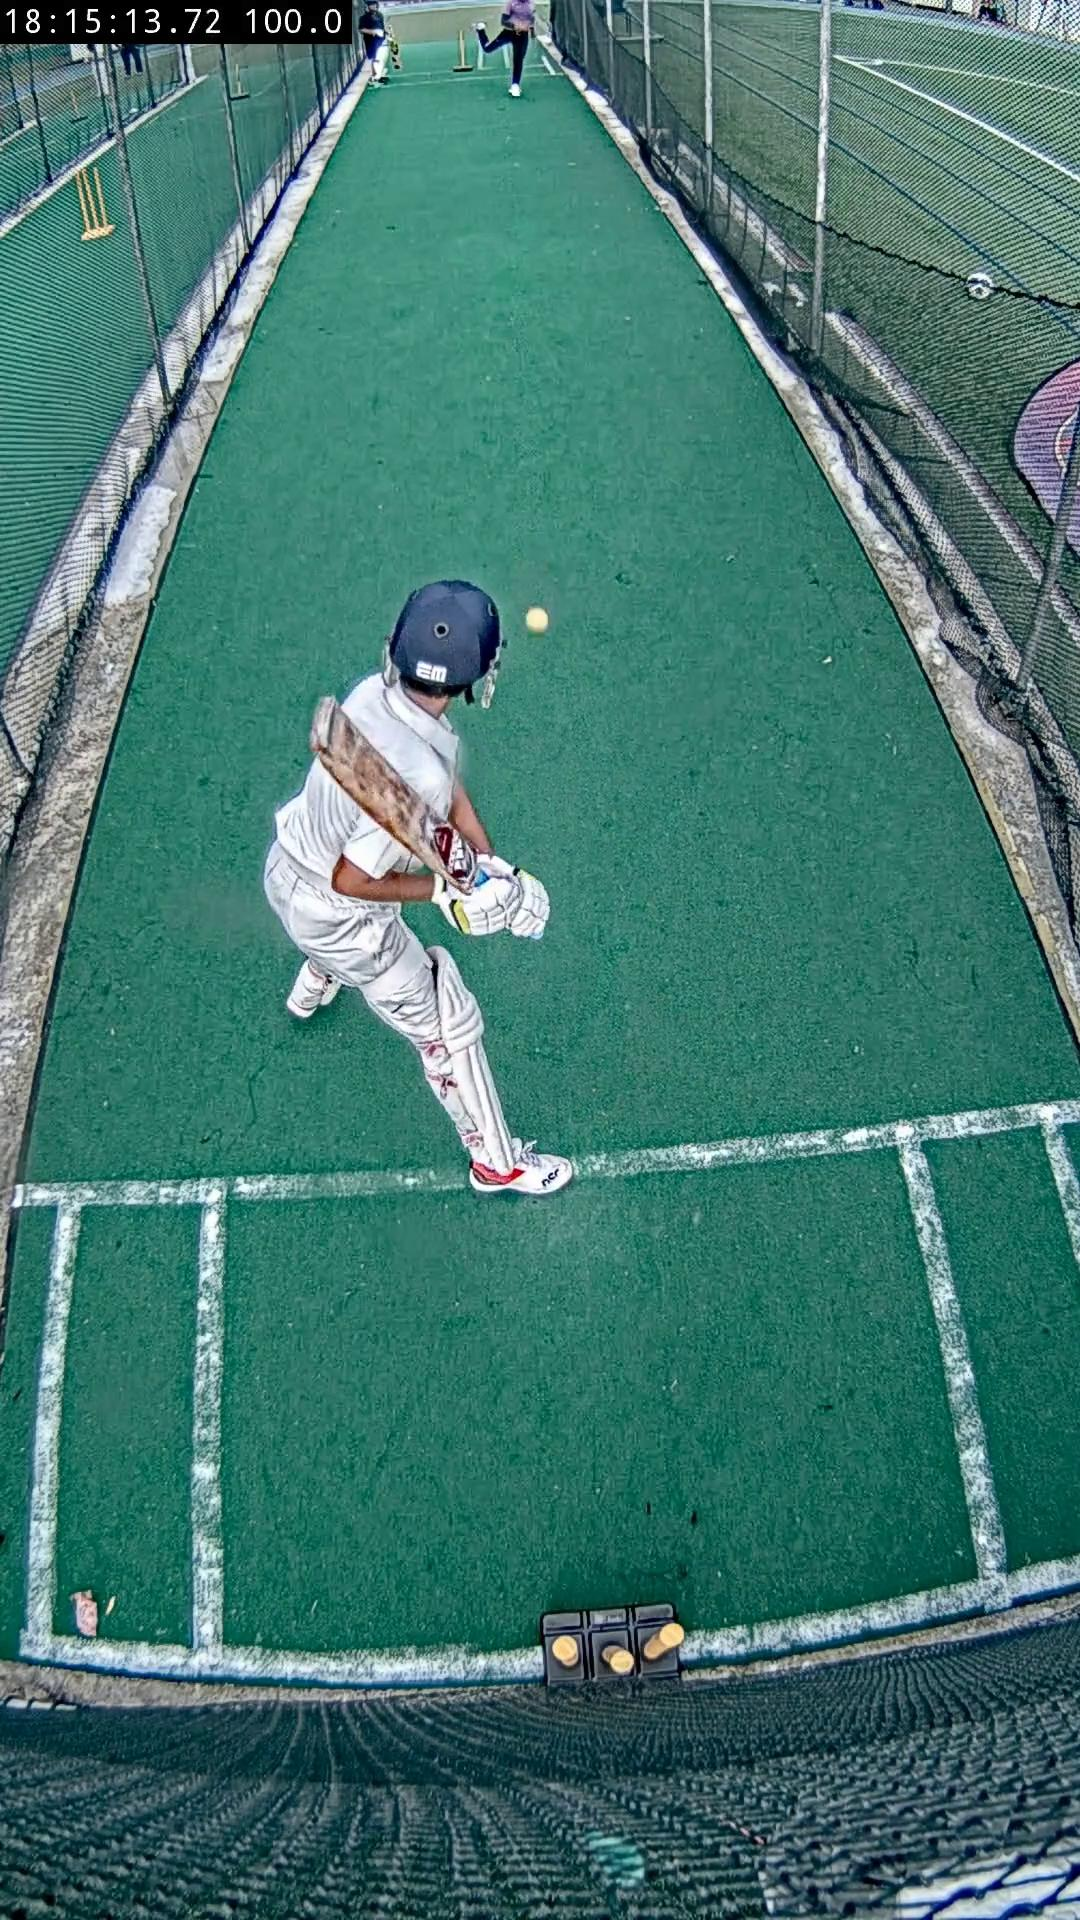ball: (525, 608, 547, 634)
bat: (311, 698, 480, 897)
gloves: (435, 855, 551, 938)
helmet: (390, 582, 502, 690)
pads: (427, 945, 525, 1174)
stumps: (541, 1605, 686, 1684)
